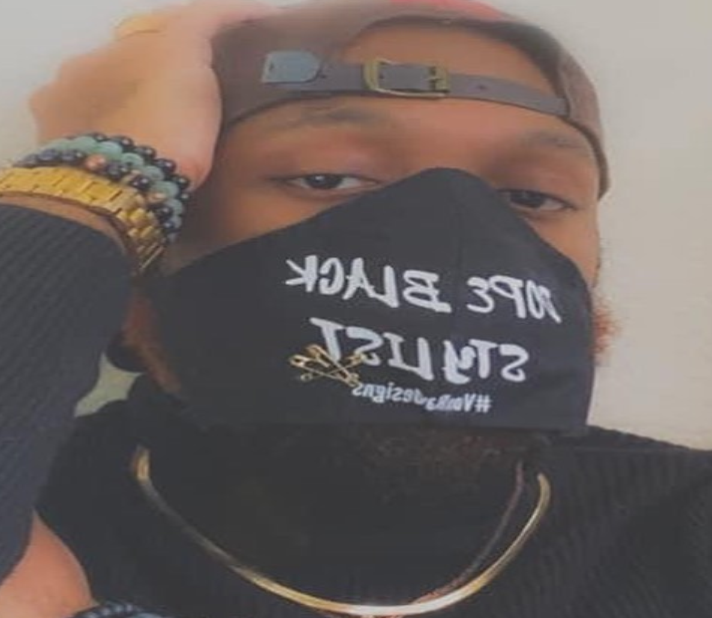mask_weared_incorrect: (89, 0, 636, 504)
